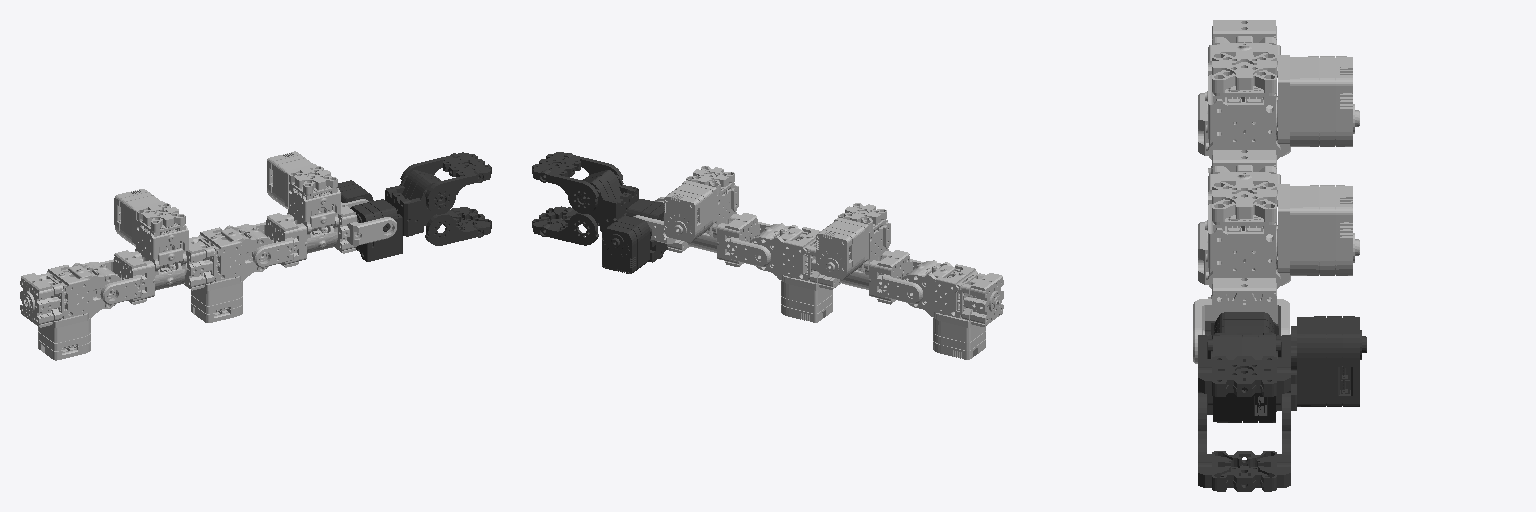
robot.urdf — yamaguchi_7axis_arm_short:
<?xml version="1.0" encoding="utf-8"?>
<!-- This URDF was automatically created by SolidWorks to URDF Exporter! Originally created by [author] ([email redacted]) 
     Commit Version: 1.6.0-1-g15f4949  Build Version: 1.6.7594.29634
     For more information, please see http://wiki.ros.org/sw_urdf_exporter -->
<robot
  name="yamaguchi_7axis_arm_short">
  <link
    name="base_link">
    <inertial>
      <origin
        xyz="0.0319956374114008 0.00351233885320305 -0.0077879670406265"
        rpy="0 0 0" />
      <mass
        value="0.739634791802776" />
      <inertia
        ixx="0.000916447418057118"
        ixy="-1.81794308663069E-05"
        ixz="2.38707892595952E-05"
        iyy="0.000648633942469447"
        iyz="2.88745139616493E-05"
        izz="0.000349445216538281" />
    </inertial>
    <visual>
      <origin
        xyz="0 0 0"
        rpy="0 0 0" />
      <geometry>
        <mesh
          filename="package://yamaguchi_7axis_arm_short/meshes/base_link.STL" />
      </geometry>
      <material
        name="">
        <color
          rgba="0.752941176470588 0.752941176470588 0.752941176470588 1" />
      </material>
    </visual>
    <collision>
      <origin
        xyz="0 0 0"
        rpy="0 0 0" />
      <geometry>
        <mesh
          filename="package://yamaguchi_7axis_arm_short/meshes/base_link.STL" />
      </geometry>
    </collision>
  </link>
  <link
    name="link1">
    <inertial>
      <origin
        xyz="0.0513555889789855 -0.00032663626423593 -0.0107832092820323"
        rpy="0 0 0" />
      <mass
        value="0.0695013999820667" />
      <inertia
        ixx="5.7873093071976E-06"
        ixy="-1.99785906135509E-07"
        ixz="-3.9522903015818E-09"
        iyy="7.28441167703901E-06"
        iyz="1.35562464480566E-08"
        izz="6.96401146603346E-06" />
    </inertial>
    <visual>
      <origin
        xyz="0 0 0"
        rpy="0 0 0" />
      <geometry>
        <mesh
          filename="package://yamaguchi_7axis_arm_short/meshes/link1.STL" />
      </geometry>
      <material
        name="">
        <color
          rgba="0.752941176470588 0.752941176470588 0.752941176470588 1" />
      </material>
    </visual>
    <collision>
      <origin
        xyz="0 0 0"
        rpy="0 0 0" />
      <geometry>
        <mesh
          filename="package://yamaguchi_7axis_arm_short/meshes/link1.STL" />
      </geometry>
    </collision>
  </link>
  <joint
    name="rarm_joint1_w"
    type="continuous">
    <origin
      xyz="0.0545 -0.0405 0"
      rpy="0 0 0" />
    <parent
      link="base_link" />
    <child
      link="link1" />
    <axis
      xyz="-1 0 0" />
    <limit velocity="10.0" effort="10.0" />
  </joint>
  <link
    name="link2">
    <inertial>
      <origin
        xyz="0.0461336605441565 0.00295731954456292 0.0167856753059148"
        rpy="0 0 0" />
      <mass
        value="0.0755465256895169" />
      <inertia
        ixx="8.14278773111818E-06"
        ixy="-9.02784081859662E-09"
        ixz="2.00544446844628E-07"
        iyy="7.53914330706402E-06"
        iyz="-3.95110679047937E-09"
        izz="6.10012216628185E-06" />
    </inertial>
    <visual>
      <origin
        xyz="0 0 0"
        rpy="0 0 0" />
      <geometry>
        <mesh
          filename="package://yamaguchi_7axis_arm_short/meshes/link2.STL" />
      </geometry>
      <material
        name="">
        <color
          rgba="0.752941176470588 0.752941176470588 0.752941176470588 1" />
      </material>
    </visual>
    <collision>
      <origin
        xyz="0 0 0"
        rpy="0 0 0" />
      <geometry>
        <mesh
          filename="package://yamaguchi_7axis_arm_short/meshes/link2.STL" />
      </geometry>
    </collision>
  </link>
  <joint
    name="rarm_joint2_w"
    type="continuous">
    <origin
      xyz="0.07550000188 0.00700000000000005 0"
      rpy="0 0 0" />
    <parent
      link="link1" />
    <child
      link="link2" />
    <axis
      xyz="0 -1 0" />
    <limit velocity="10.0" effort="0.0" />
  </joint>
  <link
    name="link3">
    <inertial>
      <origin
        xyz="0.0513555889385476 -0.00732608070604873 -0.0107832092886899"
        rpy="0 0 0" />
      <mass
        value="0.0695013997960429" />
      <inertia
        ixx="5.7873092652985E-06"
        ixy="-1.9978591635931E-07"
        ixz="-3.95228329806092E-09"
        iyy="7.28441165911915E-06"
        iyz="1.35562267632647E-08"
        izz="6.96401143378191E-06" />
    </inertial>
    <visual>
      <origin
        xyz="0 0 0"
        rpy="0 0 0" />
      <geometry>
        <mesh
          filename="package://yamaguchi_7axis_arm_short/meshes/link3.STL" />
      </geometry>
      <material
        name="">
        <color
          rgba="0.752941176470588 0.752941176470588 0.752941176470588 1" />
      </material>
    </visual>
    <collision>
      <origin
        xyz="0 0 0"
        rpy="0 0 0" />
      <geometry>
        <mesh
          filename="package://yamaguchi_7axis_arm_short/meshes/link3.STL" />
      </geometry>
    </collision>
  </link>
  <joint
    name="rarm_joint3_w"
    type="continuous">
    <origin
      xyz="0.0514999999999998 0 0"
      rpy="0 0 0" />
    <parent
      link="link2" />
    <child
      link="link3" />
    <axis
      xyz="-1 0 0" />
    <limit velocity="10.0" effort="0.0" />
  </joint>
  <link
    name="link4">
    <inertial>
      <origin
        xyz="0.0461336605441584 0.00995731954456315 0.0167856753059124"
        rpy="0 0 0" />
      <mass
        value="0.0755465256895074" />
      <inertia
        ixx="8.14278773111822E-06"
        ixy="-9.02784081859941E-09"
        ixz="2.00544446844641E-07"
        iyy="7.53914330706388E-06"
        iyz="-3.95110679049925E-09"
        izz="6.10012216628177E-06" />
    </inertial>
    <visual>
      <origin
        xyz="0 0 0"
        rpy="0 0 0" />
      <geometry>
        <mesh
          filename="package://yamaguchi_7axis_arm_short/meshes/link4.STL" />
      </geometry>
      <material
        name="">
        <color
          rgba="0.752941176470588 0.752941176470588 0.752941176470588 1" />
      </material>
    </visual>
    <collision>
      <origin
        xyz="0 0 0"
        rpy="0 0 0" />
      <geometry>
        <mesh
          filename="package://yamaguchi_7axis_arm_short/meshes/link4.STL" />
      </geometry>
    </collision>
  </link>
  <joint
    name="rarm_joint4_w"
    type="continuous">
    <origin
      xyz="0.0755000018800001 -0.00699944442729632 0"
      rpy="0 0 0" />
    <parent
      link="link3" />
    <child
      link="link4" />
    <axis
      xyz="0 -1 0" />
    <limit velocity="10.0" effort="0.0" />
  </joint>
  <link
    name="link5">
    <inertial>
      <origin
        xyz="0.0286492788698078 -0.000513604390624776 9.74047231760977E-16"
        rpy="0 0 0" />
      <mass
        value="0.0111568088982933" />
      <inertia
        ixx="8.23106287645061E-07"
        ixy="7.8537088071366E-09"
        ixz="1.31339727778248E-21"
        iyy="9.11940896532987E-07"
        iyz="-9.71566785125036E-22"
        izz="9.15552350082019E-07" />
    </inertial>
    <visual>
      <origin
        xyz="0 0 0"
        rpy="0 0 0" />
      <geometry>
        <mesh
          filename="package://yamaguchi_7axis_arm_short/meshes/link5.STL" />
      </geometry>
      <material
        name="">
        <color
          rgba="0.752941176470588 0.752941176470588 0.752941176470588 1" />
      </material>
    </visual>
    <collision>
      <origin
        xyz="0 0 0"
        rpy="0 0 0" />
      <geometry>
        <mesh
          filename="package://yamaguchi_7axis_arm_short/meshes/link5.STL" />
      </geometry>
    </collision>
  </link>
  <joint
    name="rarm_joint5_w"
    type="continuous">
    <origin
      xyz="0.0514999999999998 0 0"
      rpy="0 0 0" />
    <parent
      link="link4" />
    <child
      link="link5" />
    <axis
      xyz="-1 0 0" />
    <limit velocity="10.0" effort="0.0" />
  </joint>
  <link
    name="link6">
    <inertial>
      <origin
        xyz="5.00076951270856E-06 0.0128990742775923 -0.00777810456033585"
        rpy="0 0 0" />
      <mass
        value="0.0488819579417229" />
      <inertia
        ixx="6.30201298165013E-06"
        ixy="4.77616974104023E-10"
        ixz="1.80131374141001E-08"
        iyy="6.89791246161297E-06"
        iyz="-1.79692818783552E-08"
        izz="5.38979193954327E-06" />
    </inertial>
    <visual>
      <origin
        xyz="0 0 0"
        rpy="0 0 0" />
      <geometry>
        <mesh
          filename="package://yamaguchi_7axis_arm_short/meshes/link6.STL" />
      </geometry>
      <material
        name="">
        <color
          rgba="0.298039215686275 0.298039215686275 0.298039215686275 1" />
      </material>
    </visual>
    <collision>
      <origin
        xyz="0 0 0"
        rpy="0 0 0" />
      <geometry>
        <mesh
          filename="package://yamaguchi_7axis_arm_short/meshes/link6.STL" />
      </geometry>
    </collision>
  </link>
  <joint
    name="rarm_joint6"
    type="continuous">
    <origin
      xyz="0.0505000000000033 0.00250055557270537 0"
      rpy="0 0 0" />
    <parent
      link="link5" />
    <child
      link="link6" />
    <axis
      xyz="0 1 0" />
    <limit velocity="10.0" effort="0.0" />
  </joint>
  <link
    name="link7">
    <inertial>
      <origin
        xyz="0.021167913450371 -7.07286790823311E-05 0.00427390160424086"
        rpy="0 0 0" />
      <mass
        value="0.0268362399403124" />
      <inertia
        ixx="3.3927973898983E-06"
        ixy="1.02816470069103E-09"
        ixz="-3.03708811631651E-07"
        iyy="3.27634396044313E-06"
        iyz="-2.40537248392389E-08"
        izz="2.68948179876764E-06" />
    </inertial>
    <visual>
      <origin
        xyz="0 0 0"
        rpy="0 0 0" />
      <geometry>
        <mesh
          filename="package://yamaguchi_7axis_arm_short/meshes/link7.STL" />
      </geometry>
      <material
        name="">
        <color
          rgba="0.298039215686275 0.298039215686275 0.298039215686275 1" />
      </material>
    </visual>
    <collision>
      <origin
        xyz="0 0 0"
        rpy="0 0 0" />
      <geometry>
        <mesh
          filename="package://yamaguchi_7axis_arm_short/meshes/link7.STL" />
      </geometry>
    </collision>
  </link>
  <joint
    name="rarm_joint7"
    type="continuous">
    <origin
      xyz="0.0174999999999967 -0.00250000000000153 0"
      rpy="0 0 0" />
    <parent
      link="link6" />
    <child
      link="link7" />
    <axis
      xyz="1 0 0" />
    <limit velocity="10.0" effort="0.0" />
  </joint>
  <link
    name="gripper_link1">
    <inertial>
      <origin
        xyz="0.0189456317242878 -2.35922392732846E-16 -0.00704460072451881"
        rpy="0 0 0" />
      <mass
        value="0.00770529888597978" />
      <inertia
        ixx="4.13359155833754E-07"
        ixy="8.03106045259982E-22"
        ixz="2.9509459819509E-07"
        iyy="1.65491277900334E-06"
        iyz="-2.26366866121854E-23"
        izz="1.58831726929184E-06" />
    </inertial>
    <visual>
      <origin
        xyz="0 0 0"
        rpy="0 0 0" />
      <geometry>
        <mesh
          filename="package://yamaguchi_7axis_arm_short/meshes/gripper_link1.STL" />
      </geometry>
      <material
        name="">
        <color
          rgba="0.298039215686275 0.298039215686275 0.298039215686275 1" />
      </material>
    </visual>
    <collision>
      <origin
        xyz="0 0 0"
        rpy="0 0 0" />
      <geometry>
        <mesh
          filename="package://yamaguchi_7axis_arm_short/meshes/gripper_link1.STL" />
      </geometry>
    </collision>
  </link>
  <joint
    name="rarm_gripper_joint1"
    type="continuous">
    <origin
      xyz="0.0283029710109983 0 -0.0117414855054991"
      rpy="0 0 0" />
    <parent
      link="link7" />
    <child
      link="gripper_link1" />
    <axis
      xyz="0 -1 0" />
    <limit velocity="10.0" effort="0.0" />
  </joint>
  <link
    name="gripper_link2">
    <inertial>
      <origin
        xyz="0.0189456317242877 -4.64905891561784E-16 0.00704460072451837"
        rpy="0 0 0" />
      <mass
        value="0.00770529888597978" />
      <inertia
        ixx="4.13359155833744E-07"
        ixy="-6.27490904742486E-22"
        ixz="-2.95094598195071E-07"
        iyy="1.65491277900334E-06"
        iyz="-6.65490553405787E-23"
        izz="1.58831726929185E-06" />
    </inertial>
    <visual>
      <origin
        xyz="0 0 0"
        rpy="0 0 0" />
      <geometry>
        <mesh
          filename="package://yamaguchi_7axis_arm_short/meshes/gripper_link2.STL" />
      </geometry>
      <material
        name="">
        <color
          rgba="0.298039215686275 0.298039215686275 0.298039215686275 1" />
      </material>
    </visual>
    <collision>
      <origin
        xyz="0 0 0"
        rpy="0 0 0" />
      <geometry>
        <mesh
          filename="package://yamaguchi_7axis_arm_short/meshes/gripper_link2.STL" />
      </geometry>
    </collision>
  </link>
  <joint
    name="rarm_gripper_joint2"
    type="continuous">
    <origin
      xyz="0.0283029710109984 0 0.0117372282582488"
      rpy="0 0 0" />
    <parent
      link="link7" />
    <child
      link="gripper_link2" />
    <axis
      xyz="0 -1 0" />
    <limit velocity="10.0" effort="0.0" />
  </joint>
</robot>

--- Facts derived from the render (not from the file) ---
The picture shows the robot from 3 angles, left to right: view 1: azimuth 30°, elevation 25°; view 2: azimuth 150°, elevation 25°; view 3: azimuth 270°, elevation 25°; orthographic projection.
Model yamaguchi_7axis_arm_short with 10 links and 9 joints (9 continuous), rooted at base_link, posed all joints at 0.
Visible links, largest first — view 1: link2, link4, link1, link3, gripper_link2, link6, link7, gripper_link1, link5; view 2: link4, link2, link1, link3, link6, gripper_link2, link7, gripper_link1, link5; view 3: link2, link4, link6, gripper_link1, gripper_link2, link7, link5, link1, link3.
Link boxes in pixels (x1,y1,x2,y2): link2: (100,189,188,304); link4: (252,151,340,267); link1: (20,262,121,360); link3: (182,224,273,322); gripper_link2: (400,152,491,214); link6: (337,180,402,261); link7: (385,170,448,236); gripper_link1: (425,207,491,245); link5: (334,199,396,253); link4: (664,166,770,266); link2: (816,203,923,304); link1: (902,260,1003,359); link3: (750,223,840,322); link6: (602,199,667,273); gripper_link2: (532,152,622,213); link7: (578,170,638,232); gripper_link1: (532,206,599,245); link5: (633,197,689,252); link2: (1198,51,1359,173); link4: (1198,180,1359,298); link6: (1205,312,1366,414); gripper_link1: (1198,393,1290,491); gripper_link2: (1198,335,1290,396); link7: (1207,333,1281,422); link5: (1193,278,1290,363); link1: (1208,20,1280,99); link3: (1208,150,1280,228).
Size in the robot's own frame: 0.3815 by 0.0725 by 0.094 metres.
9 mesh visuals loaded from 10 distinct referenced files (9 binary STL); not drawn: 1 (reference not matched to a file when rendering).
